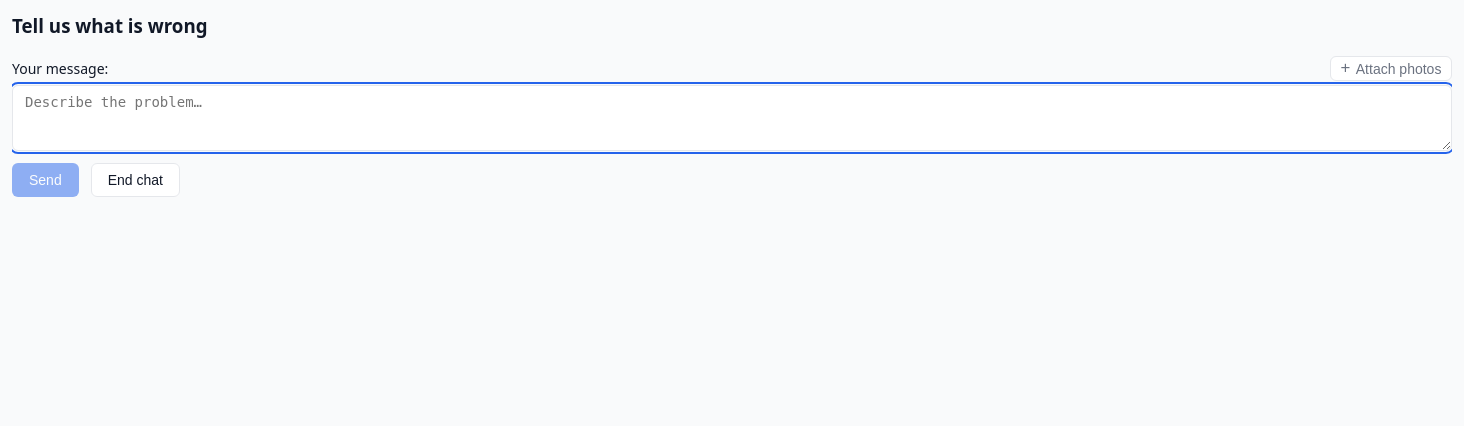
it: TriageChat › drops the emphasis once the question has been answered
This screenshot has width=1464, height=426.
Type "It will not heat." into the text box. click: point(732, 118)
box: x1=12 y1=85 x2=1452 y2=151
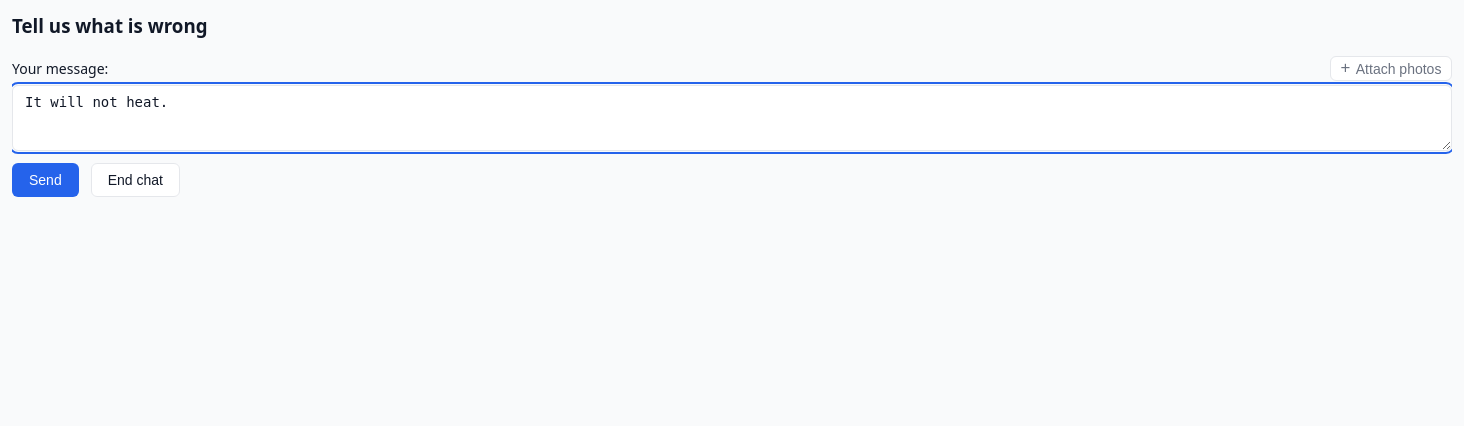
Click the button "Send". click: point(45, 180)
box: x1=12 y1=163 x2=79 y2=197
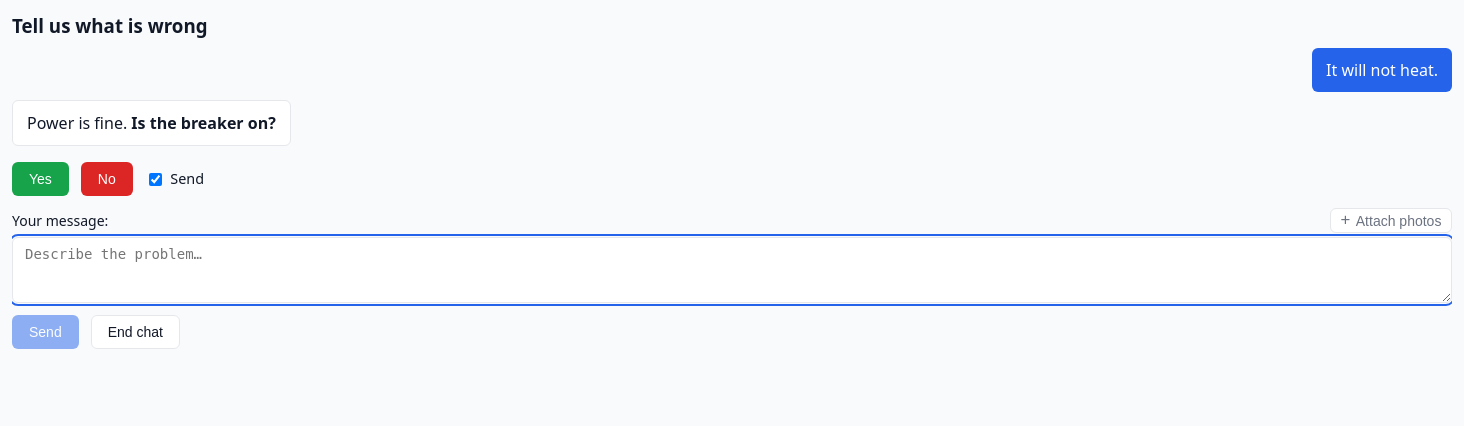
Click the button "Yes". click: point(40, 179)
box: x1=12 y1=162 x2=69 y2=196
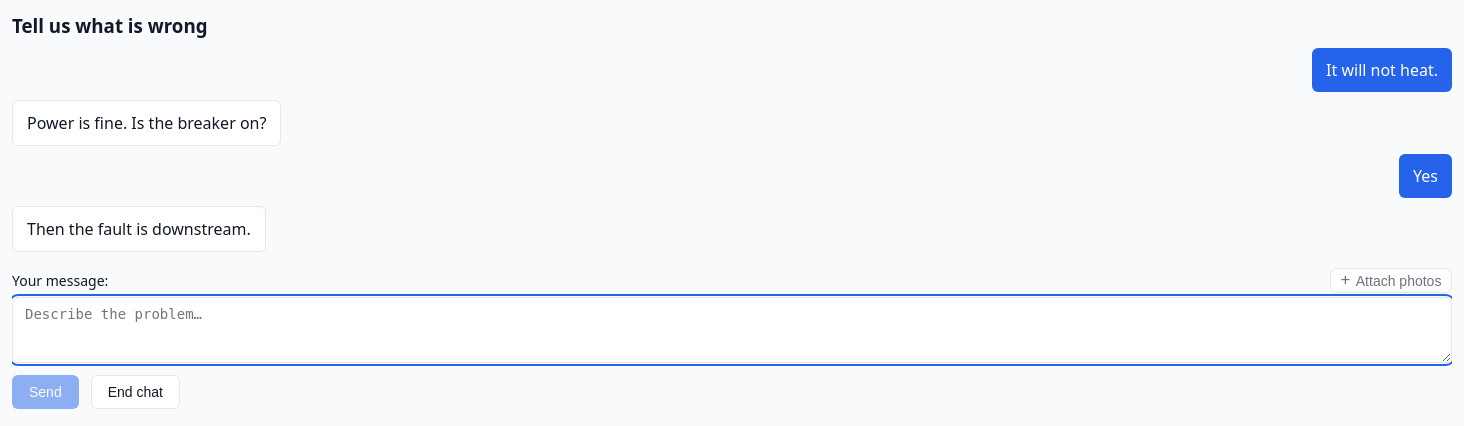
Expected: the list item "Then the fault is downstream." is shown, x1=12 y1=206 x2=266 y2=252
